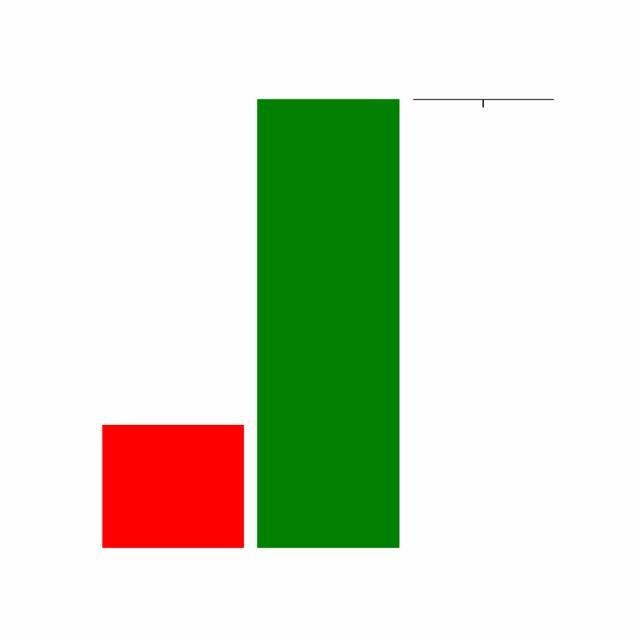Marubozu: (250, 95, 407, 553)
